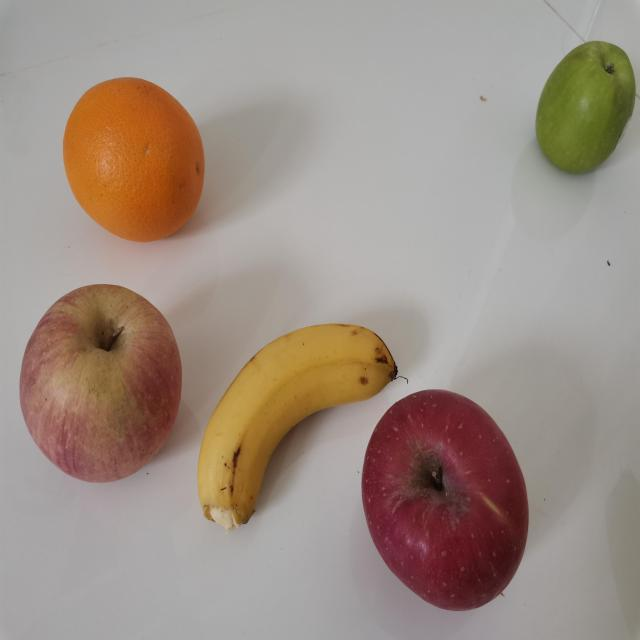Apple: (361, 387, 531, 615), (15, 280, 181, 480), (534, 38, 636, 176)
Banana: (197, 325, 397, 534)
Orange: (62, 77, 206, 243)
